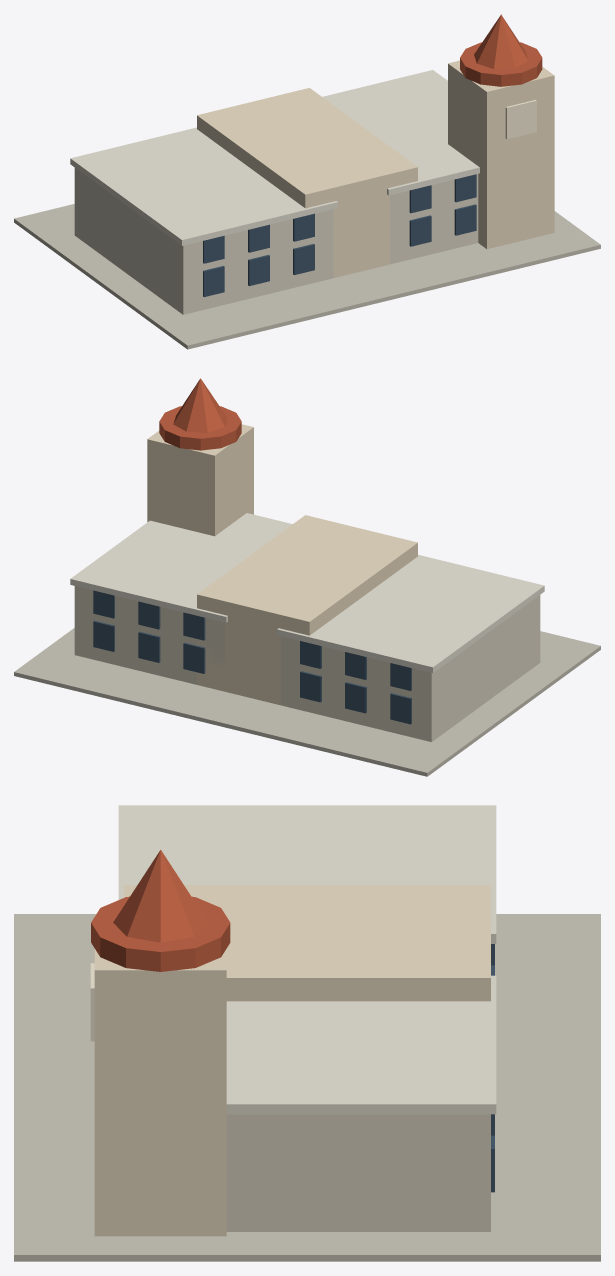
File: building.courthouse.glb
The picture shows the model from 3 angles, top to bottom: view 1: azimuth 30°, elevation 25°; view 2: azimuth 150°, elevation 25°; view 3: azimuth 270°, elevation 25°; orthographic projection. The views are drawn at different scales.
Visible parts, largest first — view 1: building.courthouse; view 2: building.courthouse; view 3: building.courthouse.
Part boxes in pixels (x1=…): building.courthouse: x1=14, y1=14, x2=600, y2=349; building.courthouse: x1=14, y1=378, x2=600, y2=776; building.courthouse: x1=14, y1=805, x2=600, y2=1261.
Size of the model in its own units: 22 by 11 by 16.
